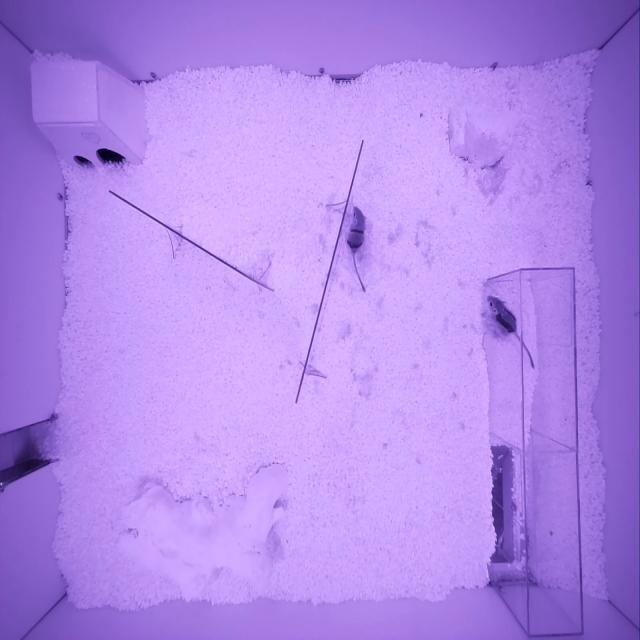pup_h_stripe: (346, 207, 367, 254)
pup_v_stripe: (487, 296, 516, 337)
